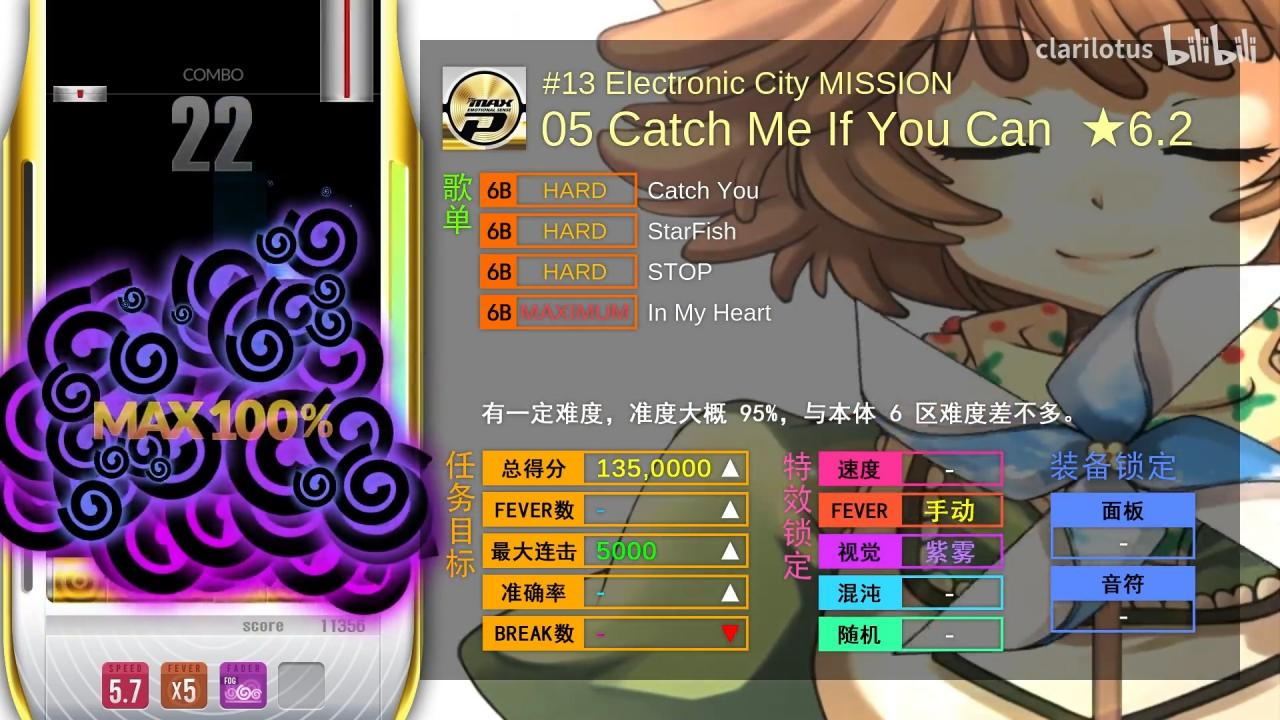hold-start: (319, 88, 374, 103)
note: (268, 262, 322, 280), (54, 85, 107, 103)
